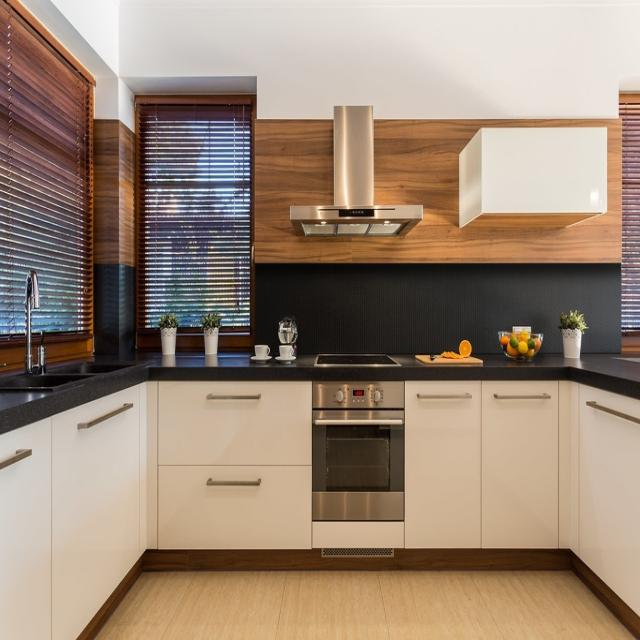E-waste: (296, 87, 414, 249), (317, 343, 408, 543)
Metal: (11, 257, 68, 400)
